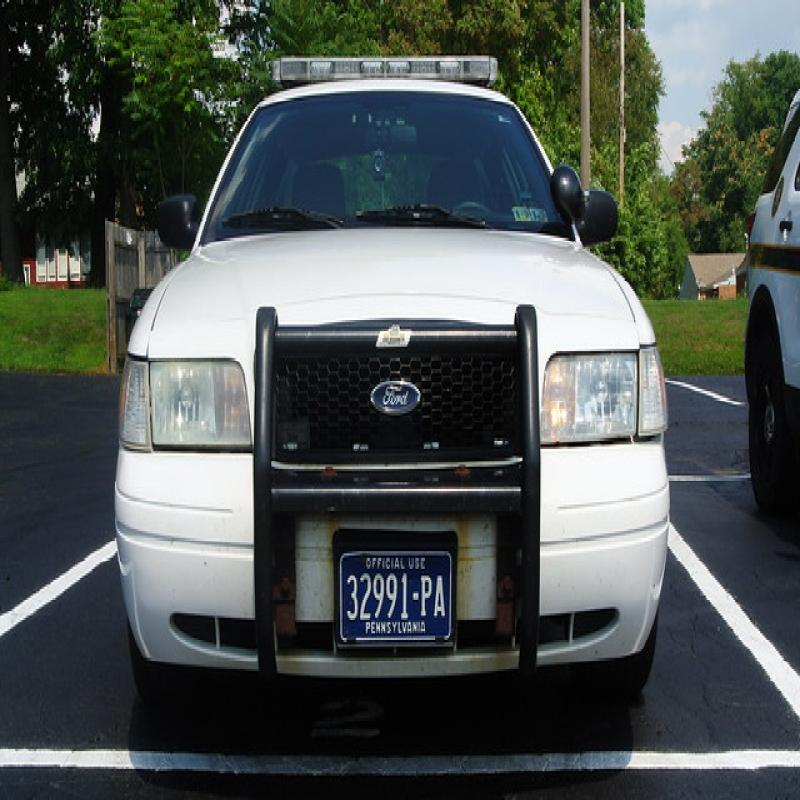AmbulanceSiren: (249, 35, 504, 100)
